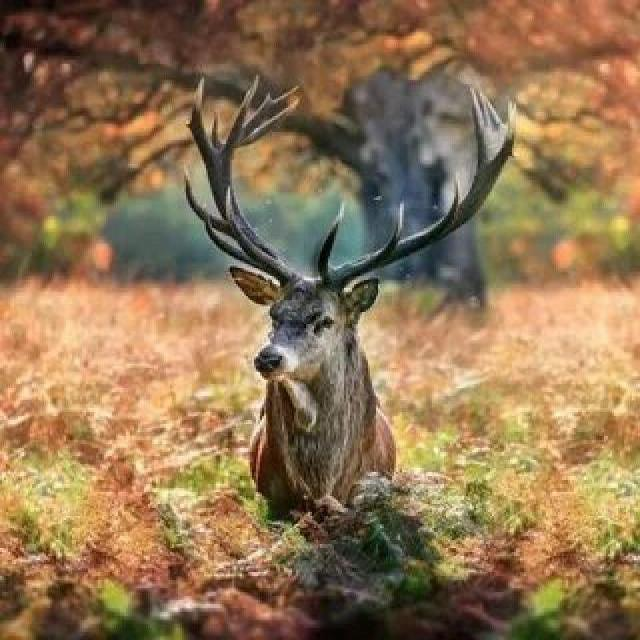deer: (124, 141, 526, 574)
